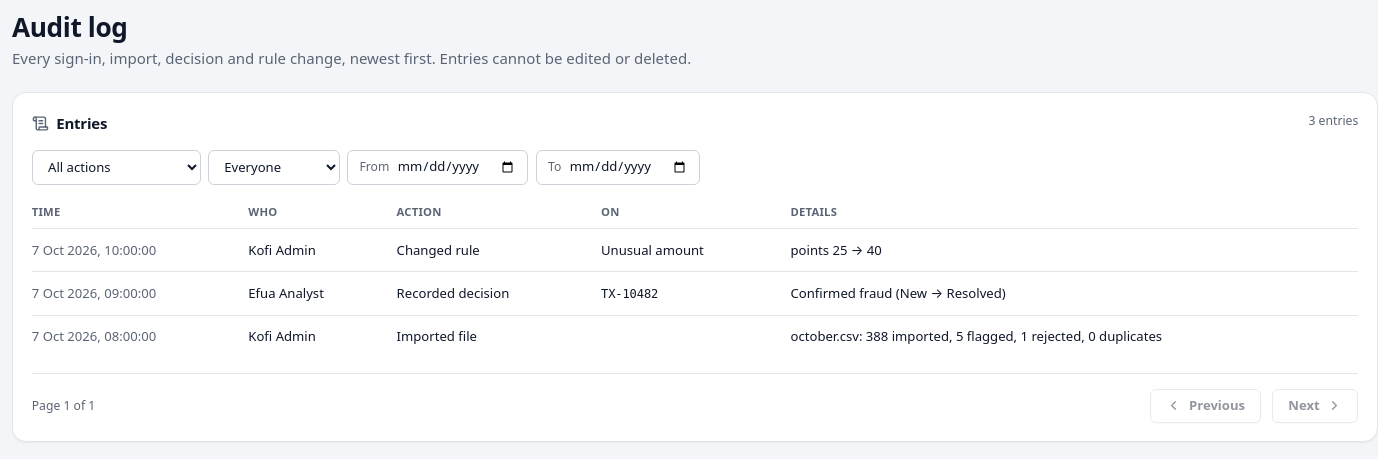
Test: Audit log › describes each entry in plain language and filters through the API
The width and height of the screenshot is (1378, 459).
Expected: the row that starts with "7 Oct 2026, 10:00:00" shows "Changed rule", [397,240,480,258]
Expected: the row that starts with "7 Oct 2026, 10:00:00" shows "Unusual amount", [601,240,704,258]
Select "Efua Analyst" in the 2nd dropdown named "Person" at (274, 167), box [208,150,340,185]
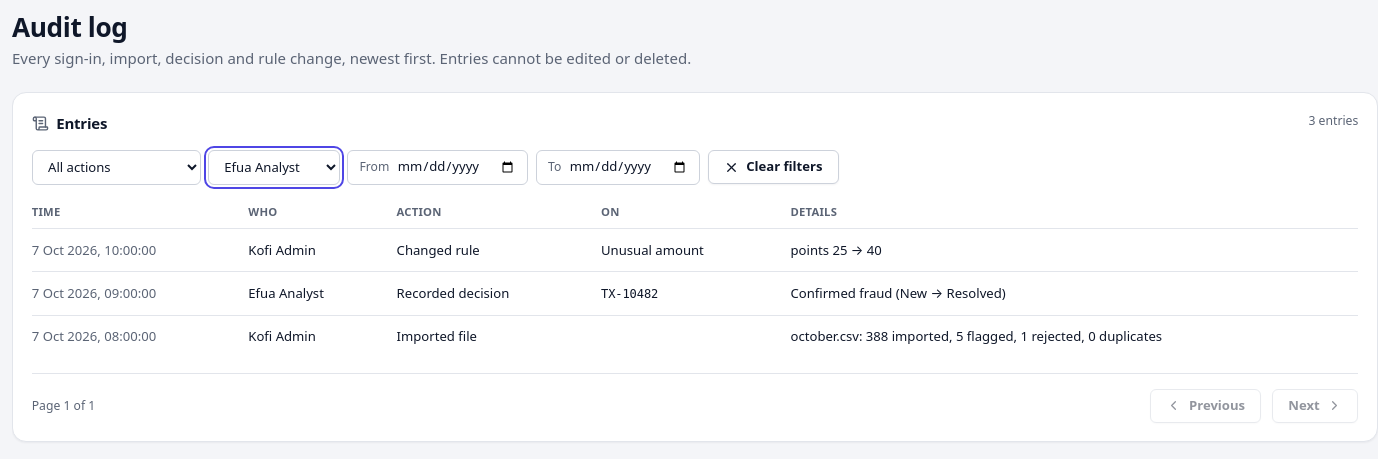
Result: the button "Clear filters" is shown at [708,150,838,184]
